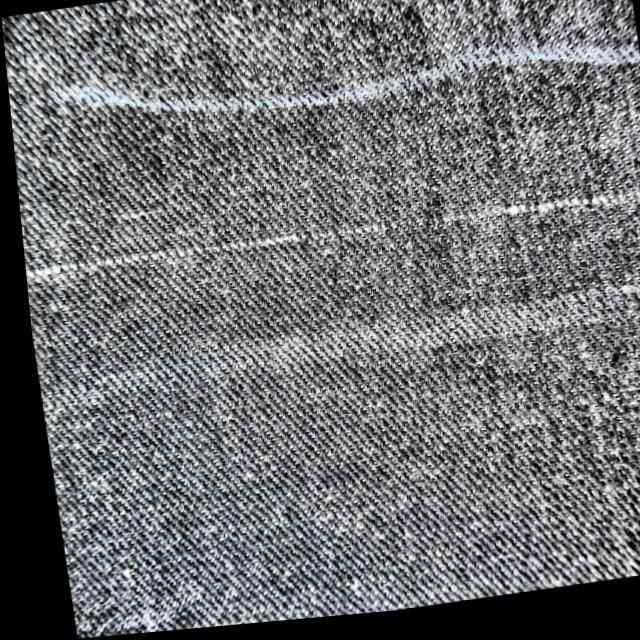Hole: (382, 171, 610, 264), (163, 227, 314, 267), (32, 248, 145, 282)
